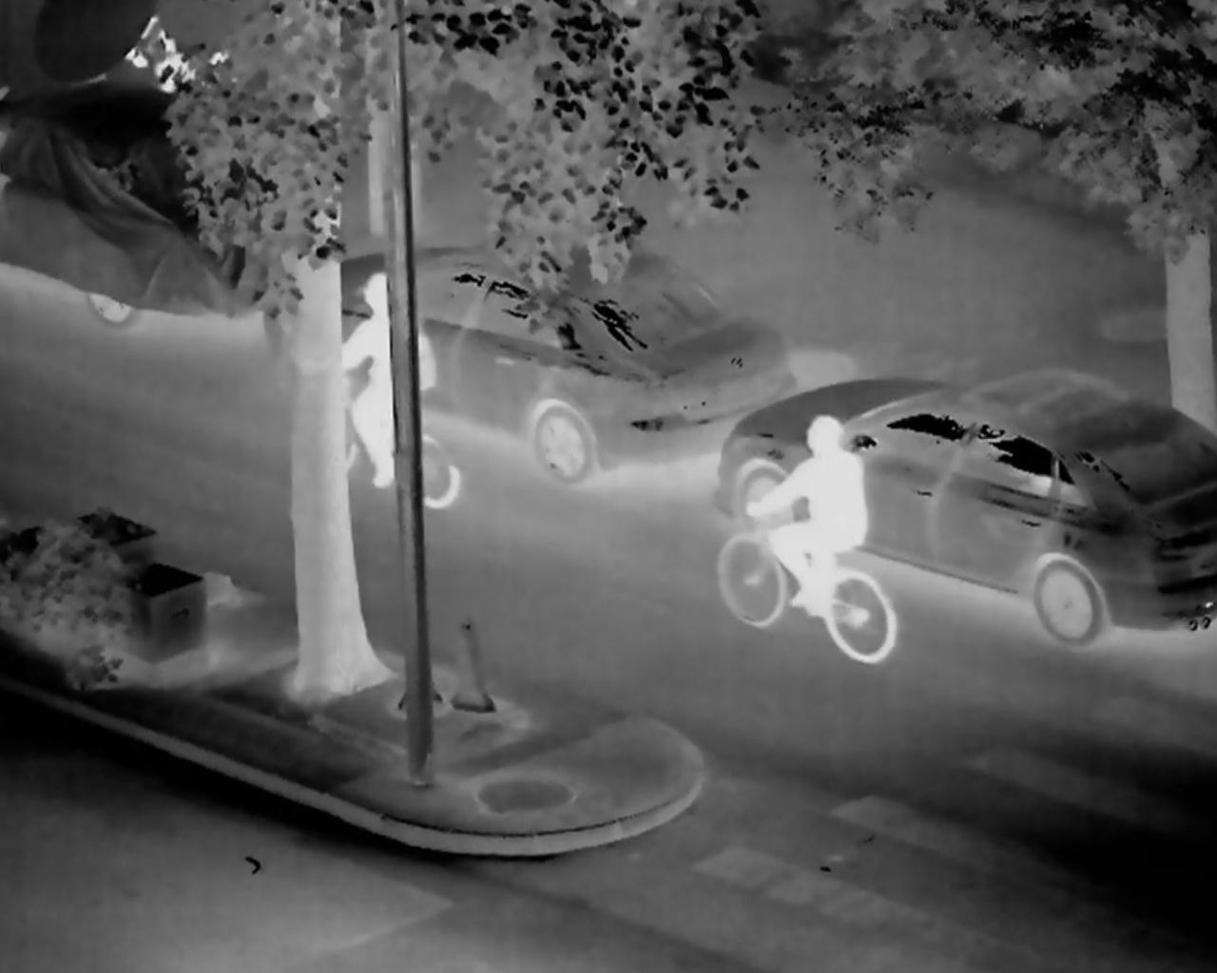person: (725, 404, 877, 634), (338, 267, 456, 496)
